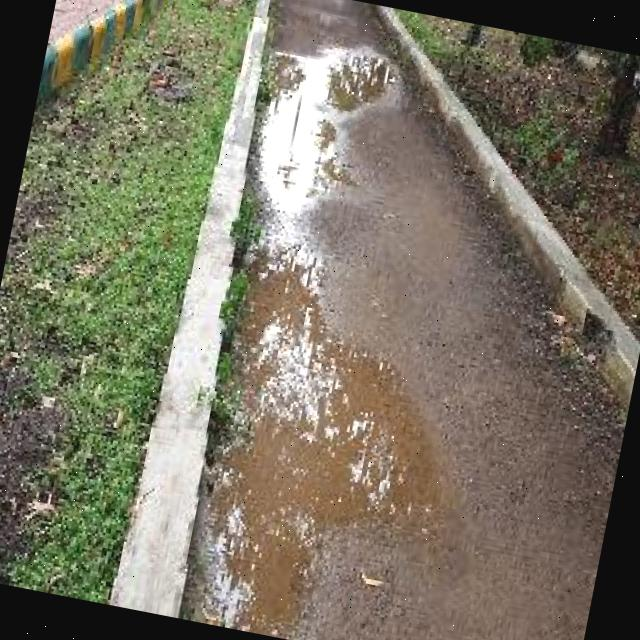stagnation: (214, 12, 470, 640)
